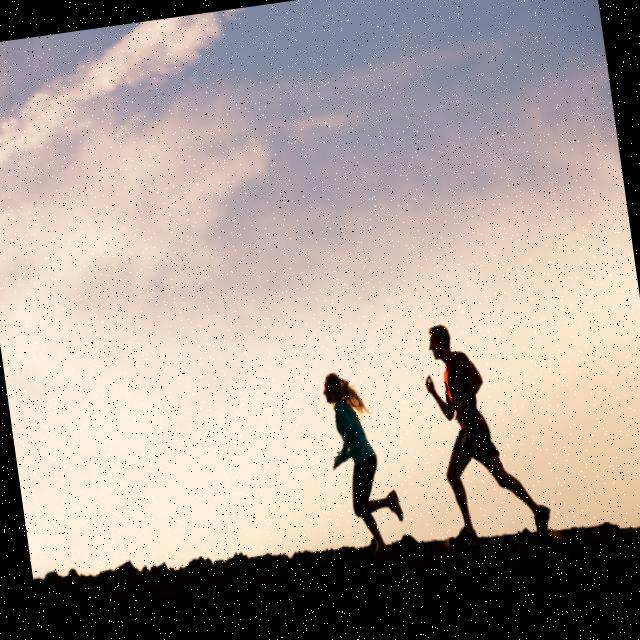Person: (418, 312, 554, 547), (318, 368, 406, 552)
